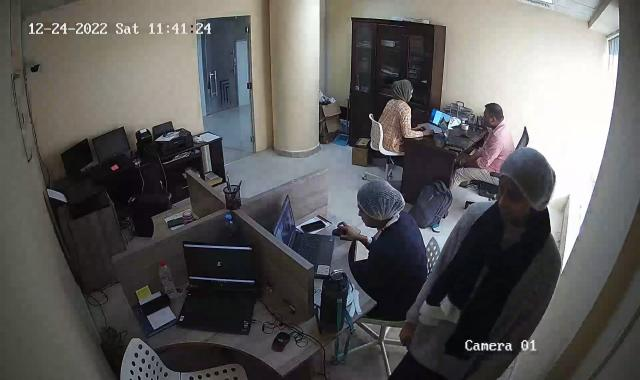hairnet: (496, 148, 554, 222), (359, 178, 406, 230)
no_hairnet: (388, 76, 416, 104), (482, 102, 506, 129)
